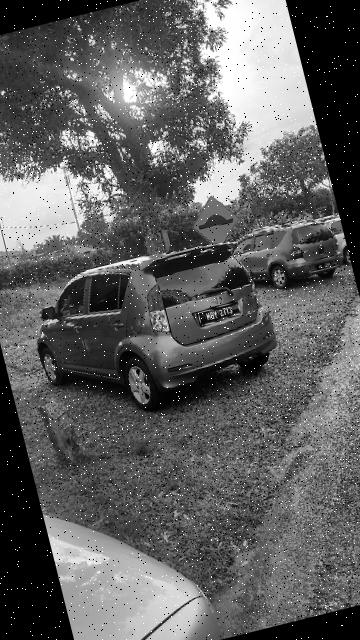License_Plate: (193, 297, 245, 328), (316, 259, 337, 274)
car: (22, 228, 289, 430), (226, 211, 345, 303)
